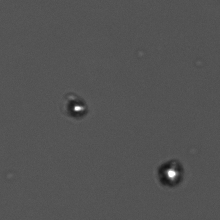Living Cell: (150, 156, 189, 189), (61, 94, 90, 121)
